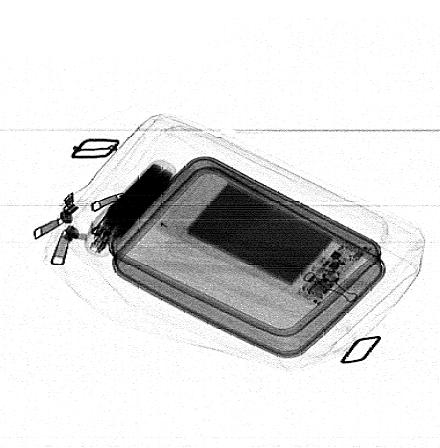Powerbank: (156, 164, 374, 306), (84, 157, 176, 258)
